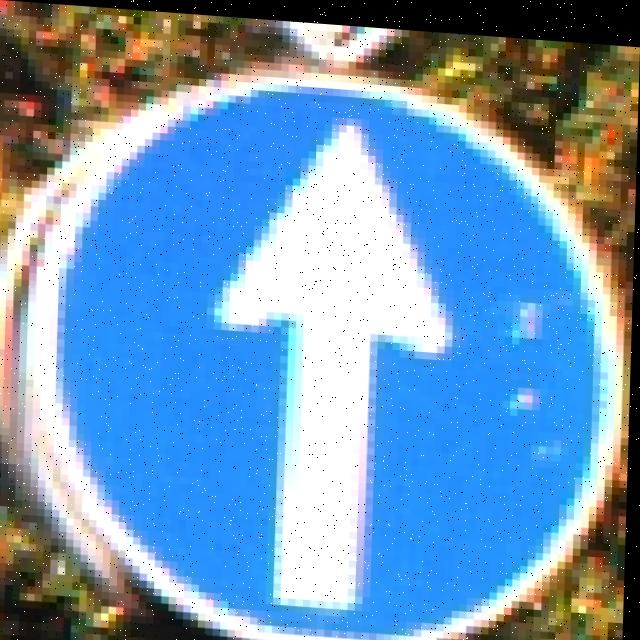compulsory_ahead: (89, 99, 611, 640)
